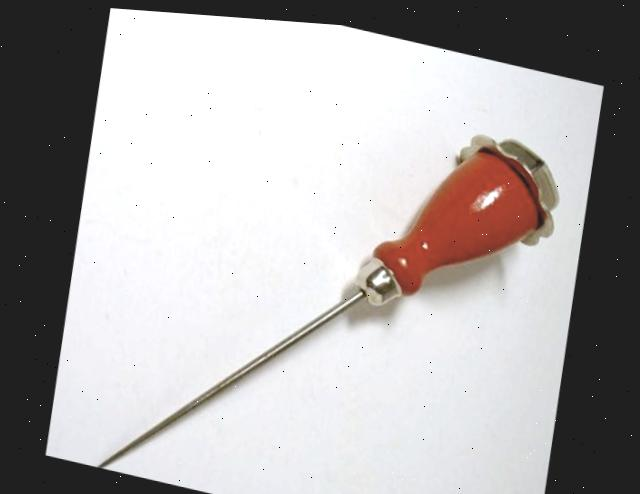ice pick: (84, 46, 570, 494)
